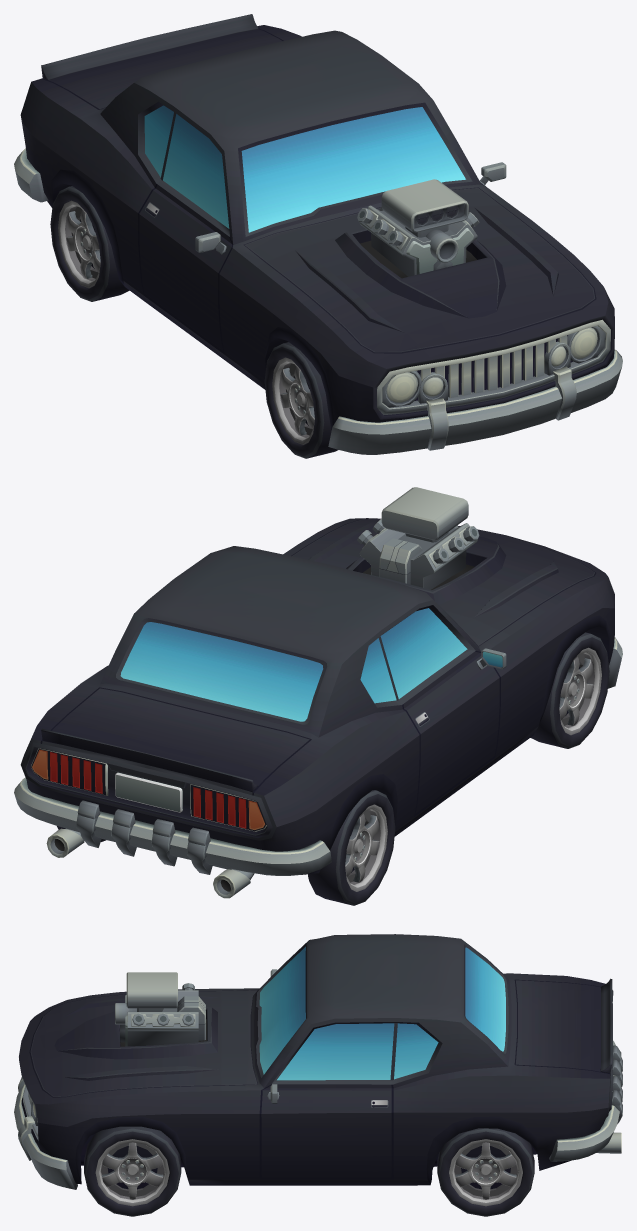
File: ergoninane-fast-72.glb
3 renders of one model, top to bottom at view 1: azimuth 30°, elevation 25°; view 2: azimuth 150°, elevation 25°; view 3: azimuth 270°, elevation 25°, orthographic. The views are drawn at different scales.
Visible parts, largest first — view 1: Mister Beef_4, Mister Beef_FrontRightWheel.003, Mister Beef_RearRightWheel.003; view 2: Mister Beef_4, Mister Beef_RearRightWheel.003, Mister Beef_FrontRightWheel.003; view 3: Mister Beef_4, Mister Beef_FrontLeftWheel.003, Mister Beef_RearLeftWheel.003.
Boxes of the visible parts, x1,y1,x2,y2 form: Mister Beef_4: (14, 14, 622, 454); Mister Beef_FrontRightWheel.003: (264, 342, 337, 458); Mister Beef_RearRightWheel.003: (50, 186, 129, 301); Mister Beef_4: (14, 487, 622, 898); Mister Beef_RearRightWheel.003: (308, 790, 395, 905); Mister Beef_FrontRightWheel.003: (530, 632, 609, 748); Mister Beef_4: (14, 934, 622, 1189); Mister Beef_FrontLeftWheel.003: (84, 1126, 181, 1216); Mister Beef_RearLeftWheel.003: (437, 1128, 534, 1216).
Size of the model in its own units: 2.38 by 1.7 by 4.94.
1 material, 1 textured.
